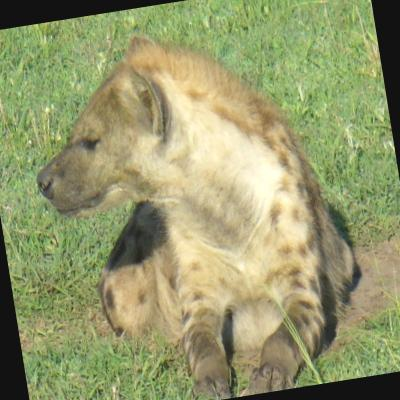hyenas: (0, 0, 383, 400)
